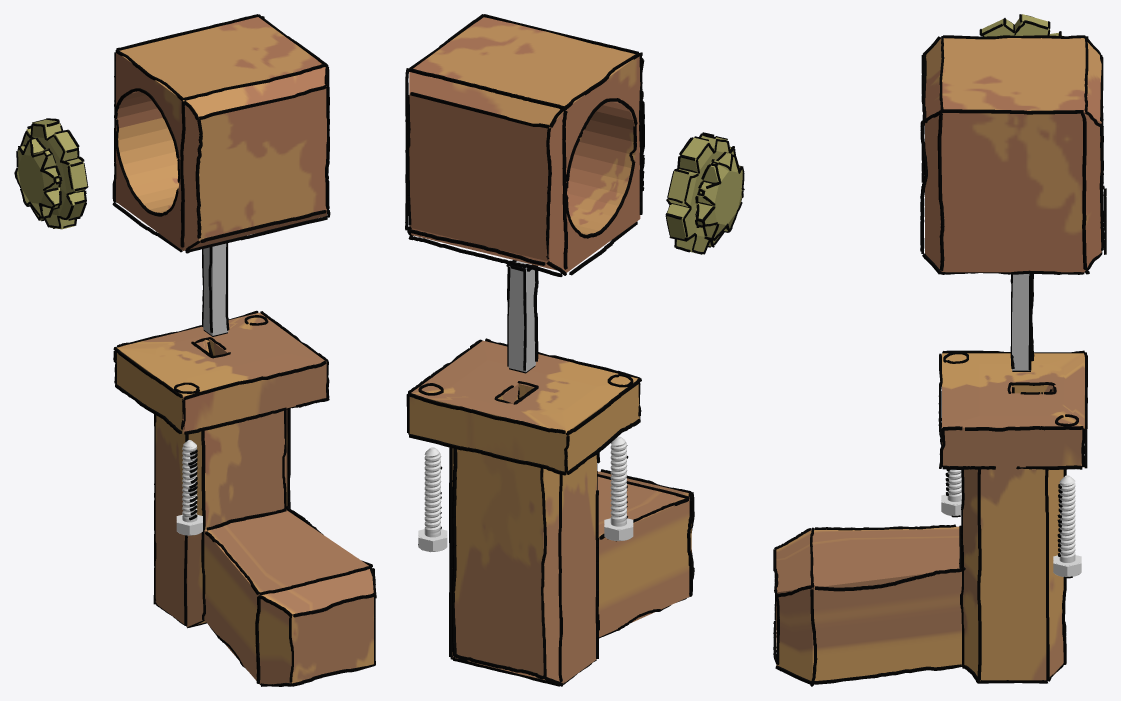
Rendered from minimalistic walking leg.fbx.
3 renders of one model, left to right at view 1: azimuth 30°, elevation 25°; view 2: azimuth 150°, elevation 25°; view 3: azimuth 270°, elevation 25°, orthographic. The views are drawn at different scales.
Visible parts, largest first — view 1: feet, Feet top, feet outline, feet top outline, small gear.001, small gear outline.001, Walking feet component, screw1, walking feet component outline; view 2: feet, Feet top, feet outline, feet top outline, small gear.001, small gear outline.001, Walking feet component, screw2, screw1, walking feet component outline; view 3: feet, Feet top, feet outline, feet top outline, screw2, Walking feet component, small gear.001, screw1, walking feet component outline.
Boxes of the visible parts, box(x1,y1,x2,y2) form: feet: box(116, 312, 373, 684); Feet top: box(116, 17, 326, 250); feet outline: box(113, 310, 376, 686); feet top outline: box(112, 14, 330, 253); small gear.001: box(17, 119, 87, 229); small gear outline.001: box(14, 118, 88, 228); Walking feet component: box(203, 243, 228, 335); screw1: box(176, 440, 202, 535); walking feet component outline: box(202, 243, 229, 336); feet: box(409, 340, 691, 683); Feet top: box(409, 17, 640, 272); feet outline: box(406, 338, 694, 686); feet top outline: box(405, 14, 644, 276); small gear.001: box(666, 135, 742, 254); small gear outline.001: box(665, 132, 744, 254); Walking feet component: box(508, 261, 535, 372); screw2: box(418, 447, 447, 551); screw1: box(604, 436, 633, 541); walking feet component outline: box(506, 260, 538, 373); feet: box(776, 353, 1084, 680); Feet top: box(925, 38, 1101, 272); feet outline: box(773, 350, 1087, 686); feet top outline: box(920, 35, 1106, 274); screw2: box(1053, 475, 1081, 576); Walking feet component: box(1012, 274, 1030, 370); small gear.001: box(982, 14, 1061, 36); screw1: box(941, 469, 961, 515); walking feet component outline: box(1010, 274, 1034, 371).
Bounding box in the file's own units: 26.65 × 52.64 × 27.22.
